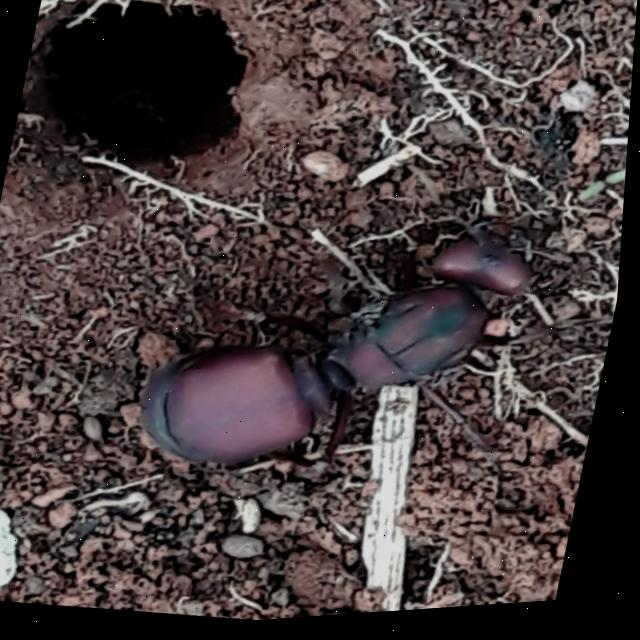Alive-Female-Dealate: (128, 171, 629, 526)
